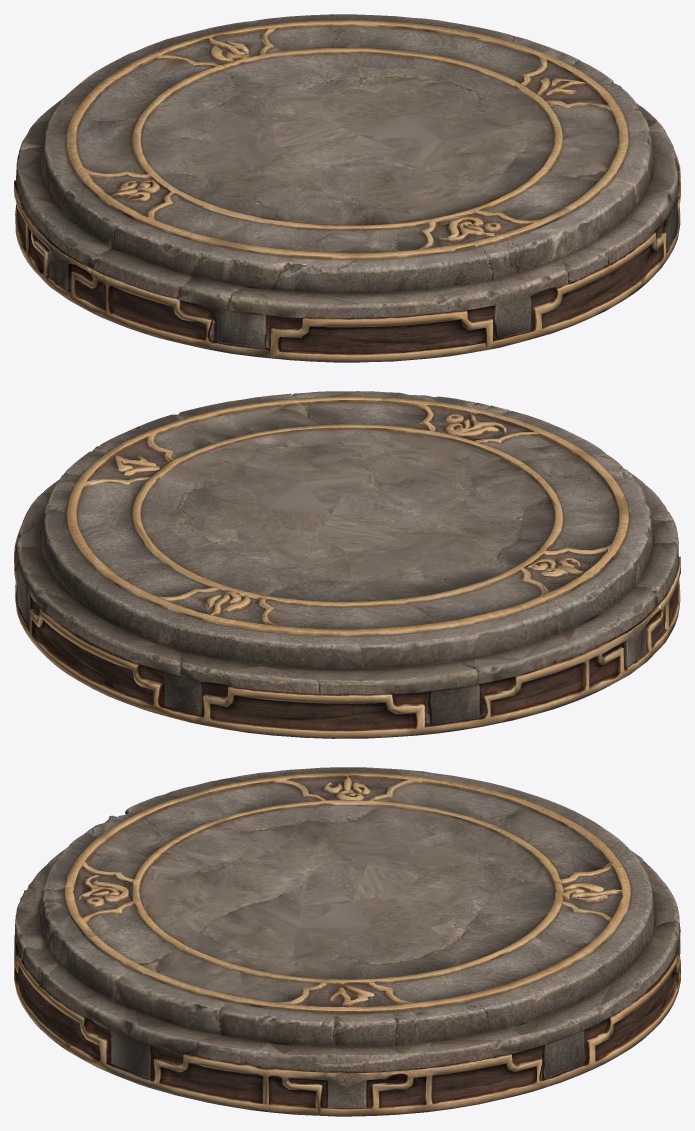
Rendered from pedestal.glb.
The picture shows the model from 3 angles, top to bottom: view 1: azimuth 30°, elevation 25°; view 2: azimuth 150°, elevation 25°; view 3: azimuth 270°, elevation 25°; orthographic projection.
Visible parts, largest first — view 1: pedestal; view 2: pedestal; view 3: pedestal.
Boxes of the visible parts, x1,y1,x2,y2 form: pedestal: (14,14,680,362); pedestal: (14,391,680,738); pedestal: (14,767,680,1116).
Size of the model in its own units: 0.981 by 0.1451 by 0.9751.
Materials: 1 (1 with a texture image).
